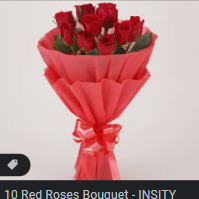RedRose: (98, 1, 120, 30), (82, 12, 105, 37), (127, 15, 146, 43), (74, 29, 98, 49), (57, 21, 76, 46), (94, 32, 115, 54), (55, 11, 76, 33), (114, 21, 129, 46), (75, 3, 97, 20)
